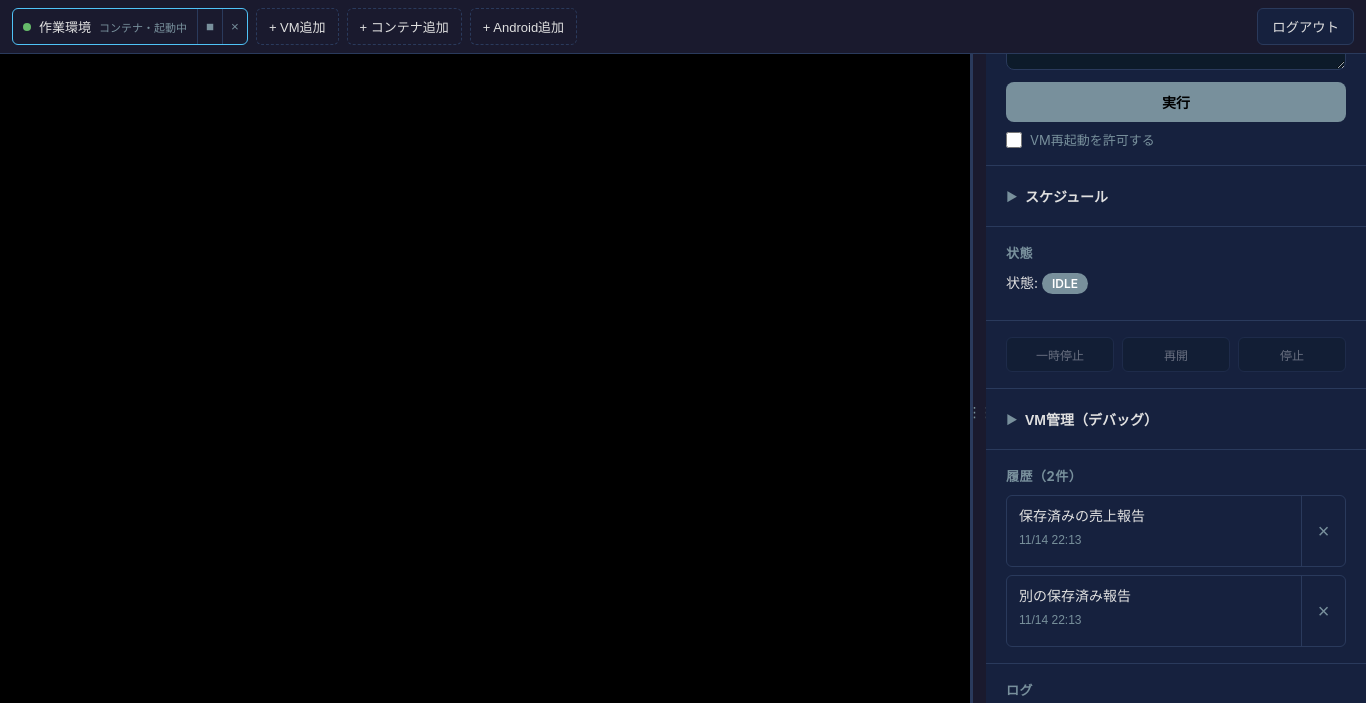
Test: a failed environment/history refresh retains the selected task and draft: null
This screenshot has width=1366, height=703.
(page scrolled)
Click the button titled "保存済みの売上報告".
click(1082, 516)  # box [1007, 496, 1301, 566]
(page scrolled)
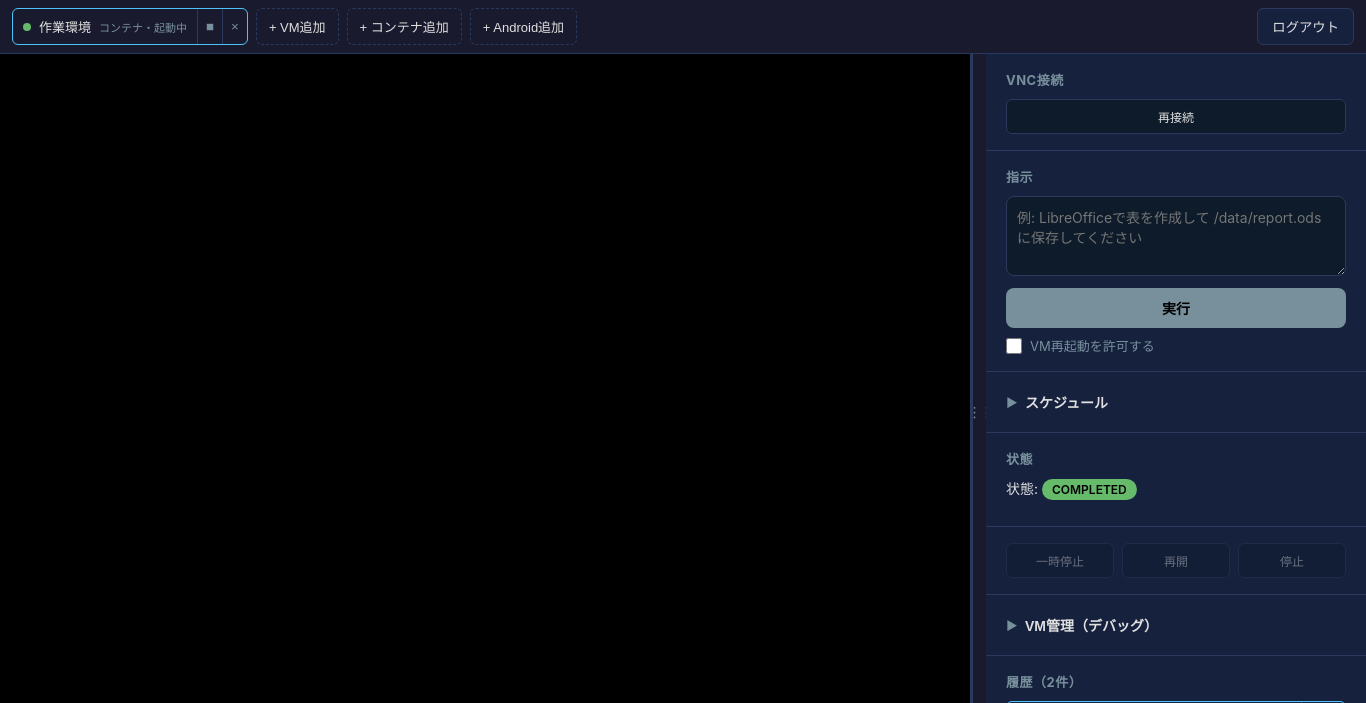
Type "編集中の指示を残す" into the text box named "指示".
click(1176, 236); type("編集中の指示を残す")  # box [1006, 196, 1346, 276]
Wait 15000 ms
(page scrolled)
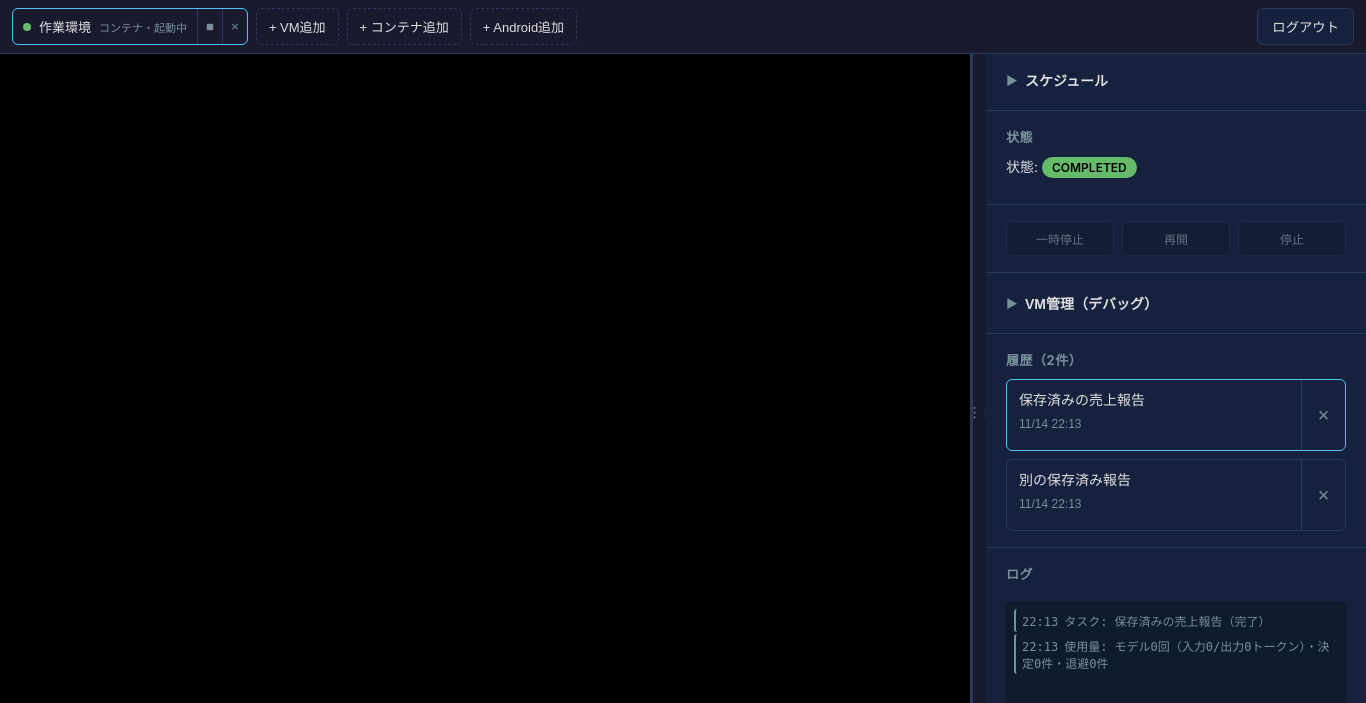
Now the button titled "別の保存済み報告" is shown, box [1007, 460, 1301, 530]
